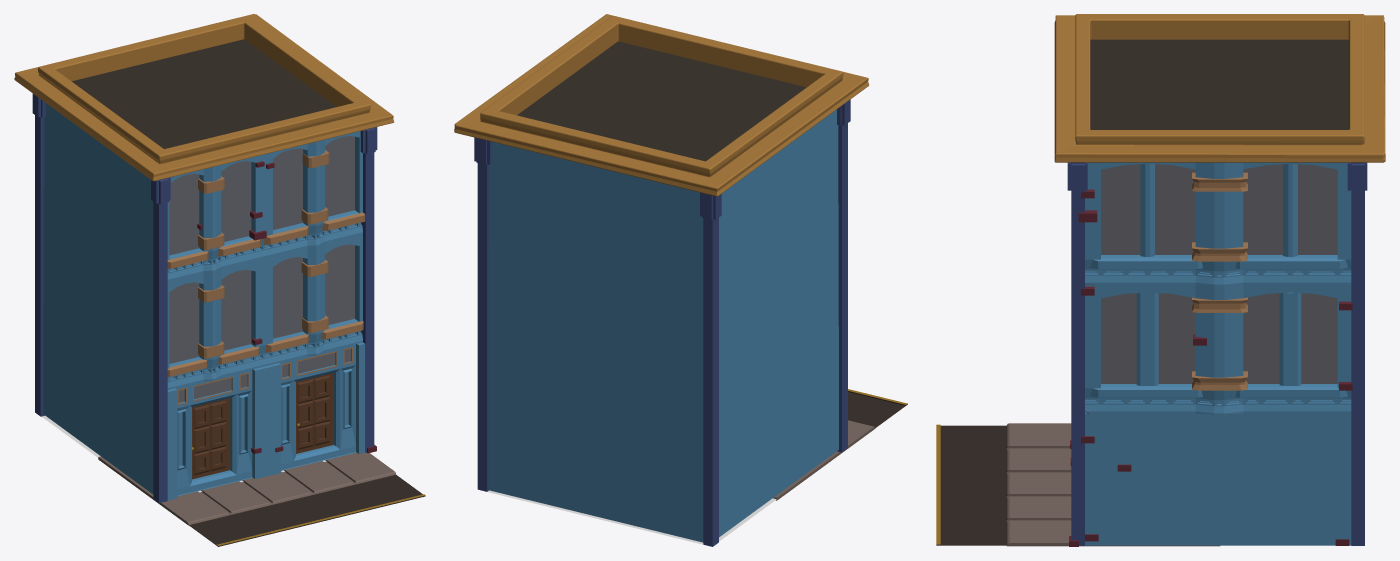
File: LowPolyBuilding2.fbx
3 renders of one model, left to right at view 1: azimuth 30°, elevation 25°; view 2: azimuth 150°, elevation 25°; view 3: azimuth 270°, elevation 25°, orthographic. The views are drawn at different scales.
Visible parts, largest first — view 1: Teto.004, Teto.005, Parede.036, Parede.045, Parede.046, Parede.037, Parede.047, Parede.039, Calçada.002, Rua.002, Pilastra.010, Pilastra.008 (+16 smaller); view 2: Parede.042, Parede.043, Teto.004, Parede.044, Teto.005, Parede.045, Parede.046, Parede.047, Pilastra.011, Pilastra.009, Pilastra.010, Rua.002 (+2 smaller); view 3: Parede.041, Teto.004, Teto.005, Parede.038, Parede.040, Janela.036, Calçada.002, Rua.002, Janela.034, Janela.035, Pilastra.009, Pilastra.008 (+5 smaller).
Boxes of the visible parts, bbox=[...] form: Teto.004: bbox=[14, 14, 394, 181]; Teto.005: bbox=[72, 39, 336, 148]; Parede.036: bbox=[167, 342, 365, 500]; Parede.045: bbox=[43, 301, 153, 494]; Parede.046: bbox=[43, 189, 153, 381]; Parede.037: bbox=[167, 234, 362, 389]; Parede.047: bbox=[44, 103, 153, 268]; Parede.039: bbox=[167, 131, 362, 281]; Calçada.002: bbox=[98, 452, 395, 525]; Rua.002: bbox=[189, 475, 425, 546]; Pilastra.010: bbox=[151, 177, 170, 502]; Pilastra.008: bbox=[360, 127, 377, 452]; Parede.042: bbox=[488, 367, 703, 542]; Parede.043: bbox=[488, 245, 703, 419]; Teto.004: bbox=[454, 14, 869, 196]; Parede.044: bbox=[488, 141, 703, 297]; Teto.005: bbox=[517, 41, 806, 161]; Parede.045: bbox=[719, 327, 838, 537]; Parede.046: bbox=[719, 204, 838, 413]; Parede.047: bbox=[719, 109, 838, 291]; Pilastra.011: bbox=[700, 192, 721, 546]; Pilastra.009: bbox=[474, 137, 491, 491]; Pilastra.010: bbox=[837, 99, 850, 452]; Rua.002: bbox=[848, 391, 907, 427]; Parede.041: bbox=[1085, 414, 1351, 545]; Teto.004: bbox=[1054, 14, 1385, 162]; Teto.005: bbox=[1090, 39, 1349, 129]; Parede.038: bbox=[1085, 285, 1351, 415]; Parede.040: bbox=[1085, 162, 1351, 286]; Janela.036: bbox=[1101, 293, 1337, 383]; Calçada.002: bbox=[1006, 423, 1219, 546]; Rua.002: bbox=[936, 425, 1006, 545]; Janela.034: bbox=[1101, 164, 1195, 254]; Janela.035: bbox=[1243, 164, 1337, 254]; Pilastra.009: bbox=[1347, 162, 1367, 545]; Pilastra.008: bbox=[1067, 162, 1087, 545].
Size of the model in its own units: 233 by 322 by 316.
